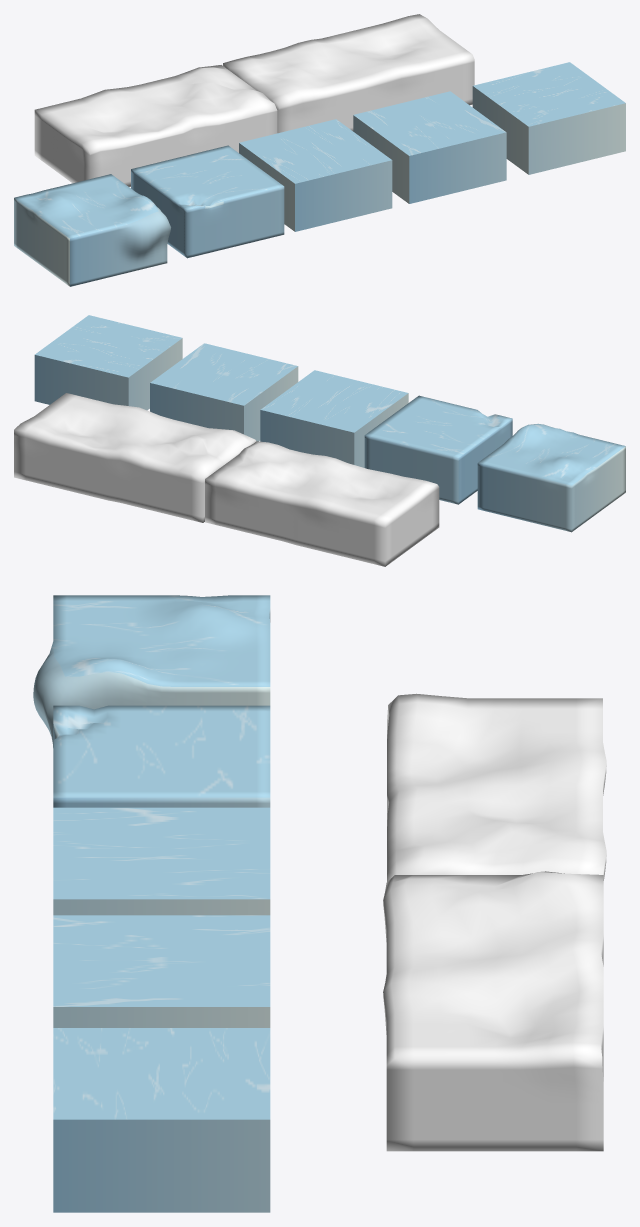
Rendered from iceTracksFBX.fbx.
3 renders of one model, top to bottom at view 1: azimuth 30°, elevation 25°; view 2: azimuth 150°, elevation 25°; view 3: azimuth 270°, elevation 25°, orthographic. The views are drawn at different scales.
Parts seen in each view (by area): view 1: SnowChunk1, SnowChunk0, IceCracked1, IceChunk0, IceCracked0, IceChunk1, IceChunk2; view 2: SnowChunk1, SnowChunk0, IceCracked1, IceCracked0, IceChunk0, IceChunk1, IceChunk2; view 3: SnowChunk0, IceChunk0, SnowChunk1, IceCracked1, IceChunk1, IceChunk2, IceCracked0.
Part boxes in pixels (x1,y1,x2,y2): SnowChunk1: (34,65,277,186); SnowChunk0: (223,14,474,133); IceCracked1: (14,174,170,286); IceChunk0: (472,62,625,174); IceCracked0: (131,145,284,258); IceChunk1: (353,91,506,203); IceChunk2: (239,119,392,231); SnowChunk1: (205,441,439,566); SnowChunk0: (14,393,256,522); IceCracked1: (477,423,625,532); IceCracked0: (364,395,512,504); IceChunk0: (34,315,182,410); IceChunk1: (150,343,298,441); IceChunk2: (260,370,408,467); SnowChunk0: (383,871,603,1151); IceChunk0: (53,1028,270,1212); SnowChunk1: (387,693,606,881); IceCracked1: (33,595,270,747); IceChunk1: (53,915,270,1027); IceChunk2: (53,807,270,915); IceCracked0: (53,705,270,807).
Bounding box in the file's own units: 1144 × 529 × 112.
